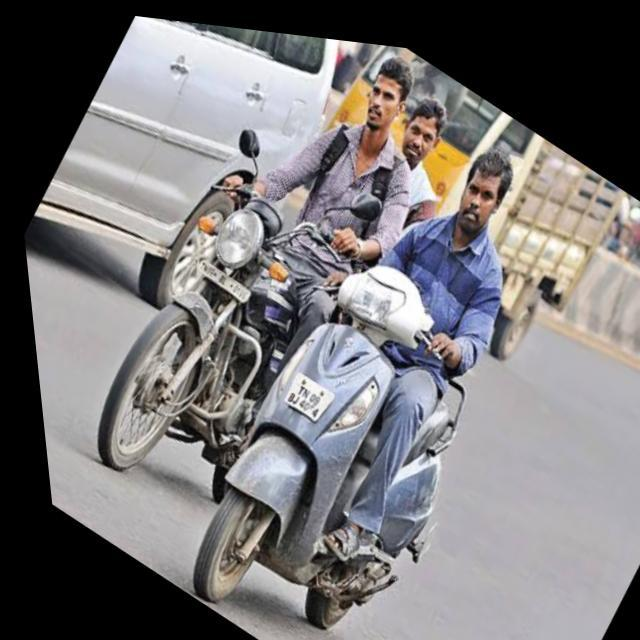Nonhelmet: (449, 142, 515, 244), (390, 90, 452, 172), (357, 59, 417, 137)
